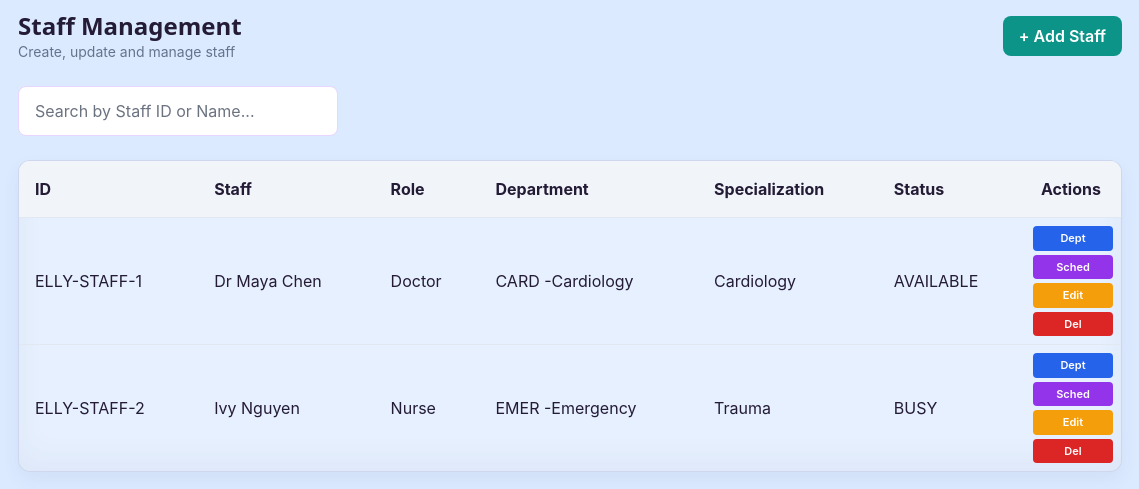
StaffManagement › loads staff with department names and filters by staff name
Expected: the text "Dr Maya Chen" is shown, [198,218,375,344]
Expected: the text "CARD -Cardiology" is shown, [480,218,698,344]
Type "ivy" into the field with placeholder "Search by Staff ID or Name...".
click(178, 111); type("ivy")  # box [18,86,338,136]
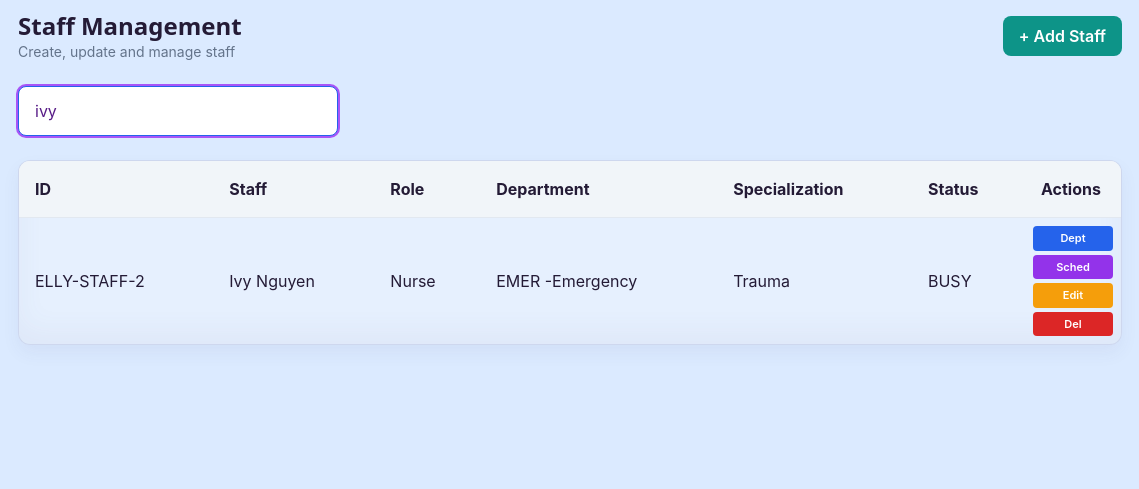
Expected: the text "Ivy Nguyen" is shown, [213,218,374,344]
Now the text "Dr Maya Chen" is gone
